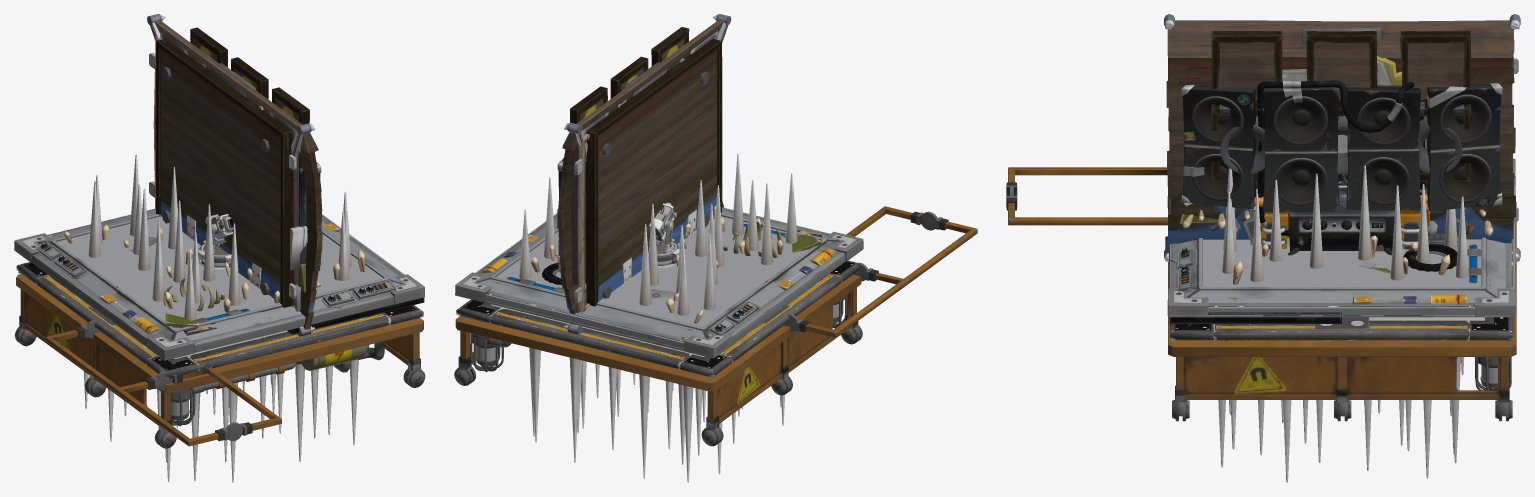
File: traps.glb
3 views of the same model, side by side, from view 1: azimuth 30°, elevation 25°; view 2: azimuth 150°, elevation 25°; view 3: azimuth 270°, elevation 25° (orthographic). The views are drawn at different scales.
Parts seen in each view (by area): view 1: Broadside:Trap_Cannon_Wall, Ceiling Drop Trap:S_Cieling_Drop_Trap, Tar Pit:SM_TarTrap_Plane, Tar Pit:SM_Tar_Pit_Trap, Vindertech Goop:S_Ceiling_Spikes_Metal_Base, Retractable Floor Spikes:Spike_Trap_Spikes, Floor Freeze Trap:S_Floor_Freeze, Vindertech Goop:S_Cieling_Spikes_Metal, Ceiling Drop Trap:S_RailRotate_B, Broadside:Trap_Cannon_Door, Wooden Floor Spikes:S_Wood_Floor_Spike, Sound Wall:Wall_SpeakerTrap (+8 smaller); view 2: Broadside:Trap_Cannon_Wall, Ceiling Drop Trap:S_Cieling_Drop_Trap, Tar Pit:SM_Tar_Pit_Trap, Tar Pit:SM_TarTrap_Plane, Vindertech Goop:S_Ceiling_Spikes_Metal_Base, Retractable Floor Spikes:Spike_Trap_Spikes, Vindertech Goop:S_Cieling_Spikes_Metal, Floor Freeze Trap:S_Floor_Freeze, Ceiling Drop Trap:S_RailRotate_B, Wall Launcher:SM_Wall_Launcher_Trap_Base, Broadside:Trap_Cannon_Door, Wooden Floor Spikes:S_Wood_Floor_Spike (+7 smaller); view 3: Sound Wall:Wall_SpeakerTrap, Ceiling Drop Trap:S_Cieling_Drop_Trap, Broadside:Trap_Cannon_Wall, Broadside:Trap_Cannon_Door, Tar Pit:SM_Tar_Pit_Trap, Tar Pit:SM_TarTrap_Plane, Vindertech Goop:S_Ceiling_Spikes_Metal_Base, Retractable Floor Spikes:Spike_Trap_Spikes, Vindertech Goop:S_Cieling_Spikes_Metal, Floor Freeze Trap:S_Floor_Freeze, Broadside:Trap_Cannon__Cannons, Ceiling Drop Trap:S_RailRotate_A (+10 smaller).
Part boxes in pixels (x1=…): Broadside:Trap_Cannon_Wall: x1=154, y1=20, x2=322, y2=329; Ceiling Drop Trap:S_Cieling_Drop_Trap: x1=14, y1=274, x2=425, y2=448; Tar Pit:SM_TarTrap_Plane: x1=57, y1=216, x2=390, y2=328; Tar Pit:SM_Tar_Pit_Trap: x1=33, y1=208, x2=404, y2=345; Vindertech Goop:S_Ceiling_Spikes_Metal_Base: x1=16, y1=262, x2=423, y2=379; Retractable Floor Spikes:Spike_Trap_Spikes: x1=88, y1=154, x2=351, y2=320; Floor Freeze Trap:S_Floor_Freeze: x1=14, y1=209, x2=424, y2=360; Vindertech Goop:S_Cieling_Spikes_Metal: x1=83, y1=359, x2=358, y2=482; Ceiling Drop Trap:S_RailRotate_B: x1=45, y1=320, x2=242, y2=446; Broadside:Trap_Cannon_Door: x1=190, y1=27, x2=309, y2=124; Wooden Floor Spikes:S_Wood_Floor_Spike: x1=49, y1=224, x2=385, y2=327; Sound Wall:Wall_SpeakerTrap: x1=160, y1=32, x2=321, y2=311; Broadside:Trap_Cannon_Wall: x1=557, y1=20, x2=724, y2=314; Ceiling Drop Trap:S_Cieling_Drop_Trap: x1=454, y1=274, x2=862, y2=446; Tar Pit:SM_Tar_Pit_Trap: x1=475, y1=207, x2=844, y2=348; Tar Pit:SM_TarTrap_Plane: x1=496, y1=216, x2=827, y2=327; Vindertech Goop:S_Ceiling_Spikes_Metal_Base: x1=456, y1=260, x2=858, y2=377; Retractable Floor Spikes:Spike_Trap_Spikes: x1=519, y1=153, x2=797, y2=315; Vindertech Goop:S_Cieling_Spikes_Metal: x1=529, y1=347, x2=784, y2=482; Floor Freeze Trap:S_Floor_Freeze: x1=455, y1=208, x2=863, y2=358; Ceiling Drop Trap:S_RailRotate_B: x1=787, y1=211, x2=977, y2=337; Wall Launcher:SM_Wall_Launcher_Trap_Base: x1=572, y1=62, x2=679, y2=312; Broadside:Trap_Cannon_Door: x1=570, y1=27, x2=689, y2=123; Wooden Floor Spikes:S_Wood_Floor_Spike: x1=531, y1=205, x2=822, y2=339; Sound Wall:Wall_SpeakerTrap: x1=1181, y1=27, x2=1502, y2=251; Ceiling Drop Trap:S_Cieling_Drop_Trap: x1=1168, y1=202, x2=1516, y2=421; Broadside:Trap_Cannon_Wall: x1=1165, y1=20, x2=1516, y2=253; Broadside:Trap_Cannon_Door: x1=1211, y1=31, x2=1471, y2=111; Tar Pit:SM_Tar_Pit_Trap: x1=1169, y1=178, x2=1514, y2=314; Tar Pit:SM_TarTrap_Plane: x1=1203, y1=239, x2=1481, y2=286; Vindertech Goop:S_Ceiling_Spikes_Metal_Base: x1=1170, y1=317, x2=1513, y2=341; Retractable Floor Spikes:Spike_Trap_Spikes: x1=1222, y1=165, x2=1468, y2=282; Vindertech Goop:S_Cieling_Spikes_Metal: x1=1218, y1=357, x2=1464, y2=482; Floor Freeze Trap:S_Floor_Freeze: x1=1167, y1=158, x2=1515, y2=316; Broadside:Trap_Cannon__Cannons: x1=1220, y1=116, x2=1462, y2=174; Ceiling Drop Trap:S_RailRotate_A: x1=1006, y1=185, x2=1168, y2=225.
Size of the model in its own units: 1.19 by 1.35 by 1.49.
19 materials, 18 textured.
